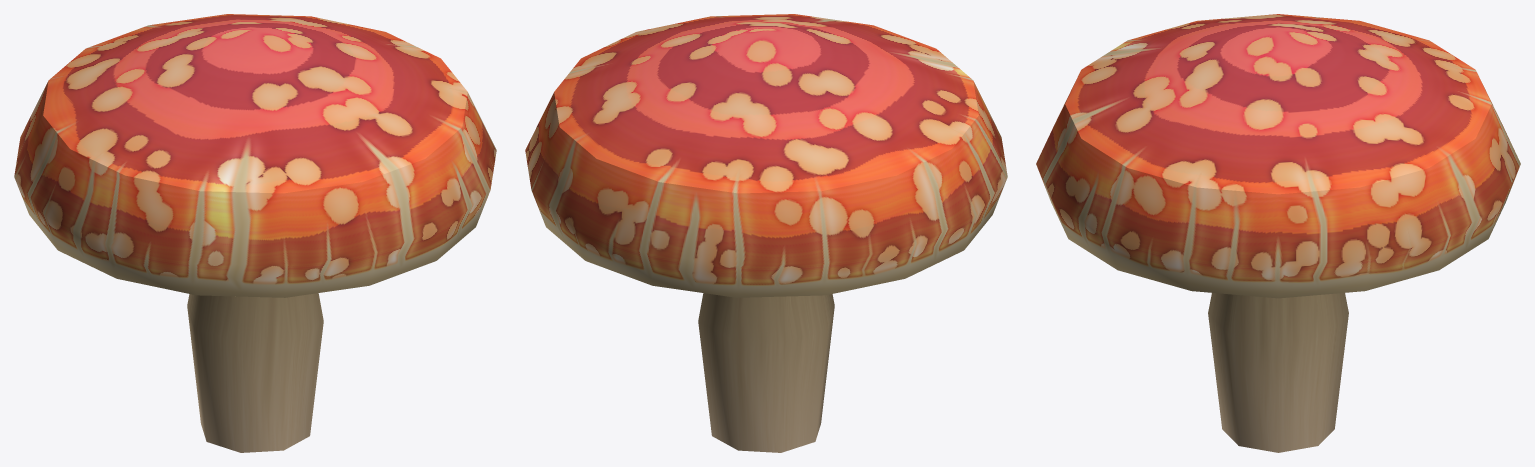
Rendered from VEG0110007.fbx.
3 renders of one model, left to right at view 1: azimuth 30°, elevation 25°; view 2: azimuth 150°, elevation 25°; view 3: azimuth 270°, elevation 25°, orthographic.
Visible parts, largest first — view 1: smVEG0110007; view 2: smVEG0110007; view 3: smVEG0110007.
Part boxes in pixels (x1,y1,x2,y2): smVEG0110007: (14,14,496,452); smVEG0110007: (525,14,1007,452); smVEG0110007: (1036,14,1520,452).
Bounding box in the file's own units: 31.21 × 28.2 × 31.21.
1 material, 1 textured.
